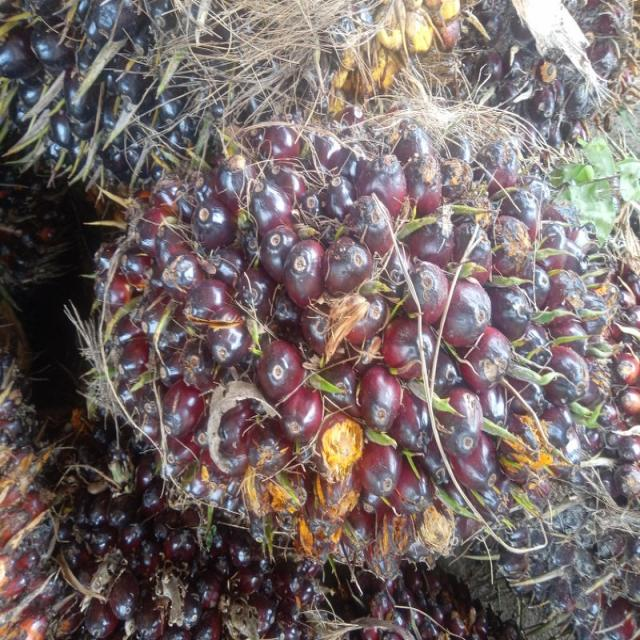fraksi 1: (95, 90, 596, 557)
